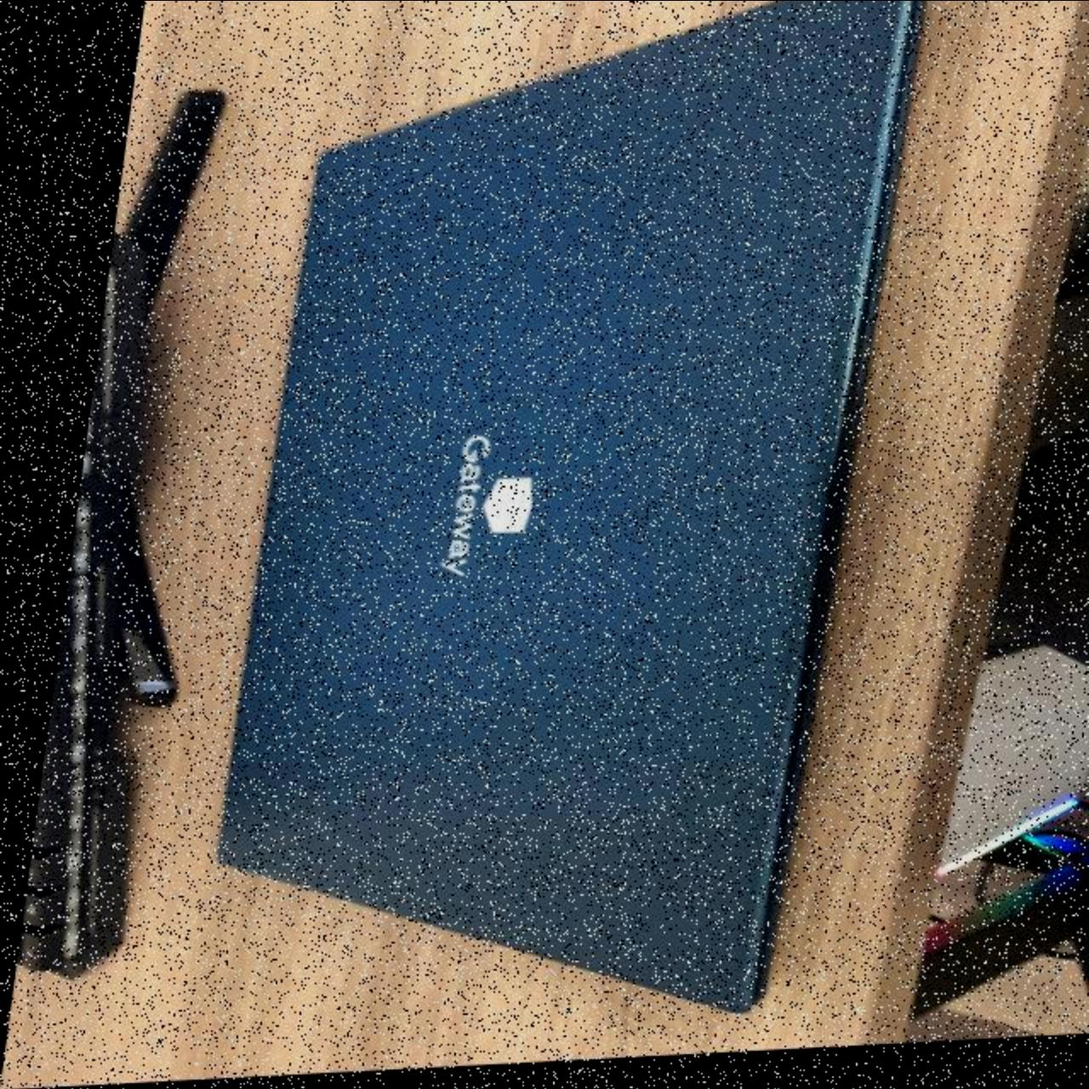laptop: (184, 0, 912, 1045)
